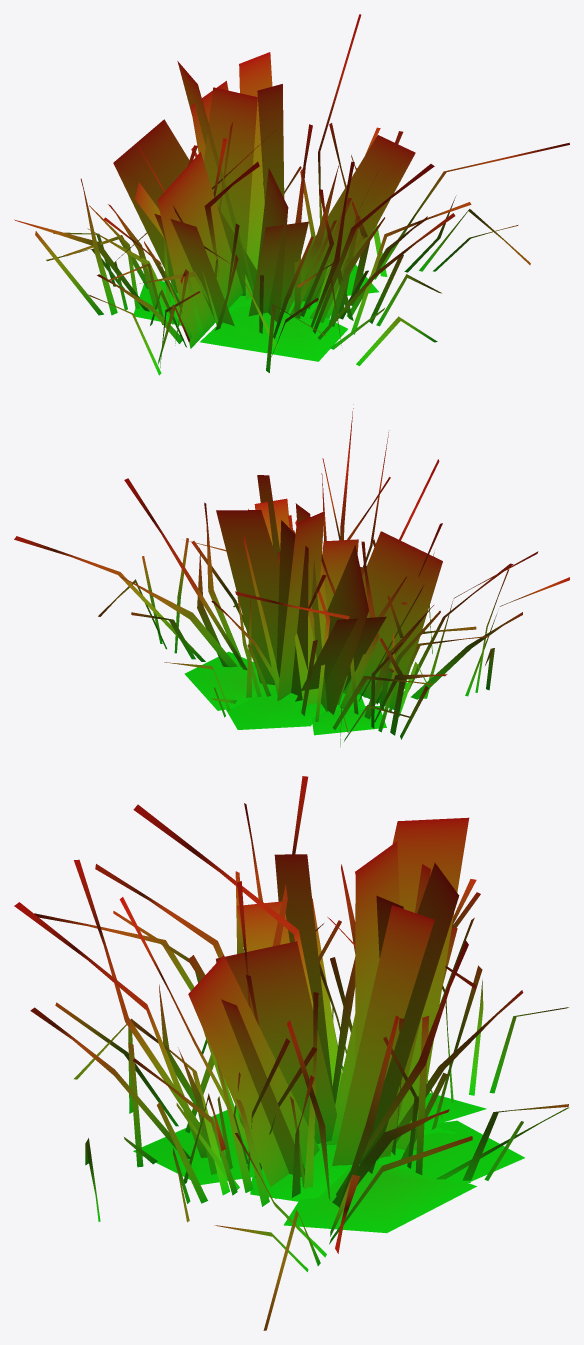
The model's file is Var15_LOD3.fbx.
The picture shows the model from 3 angles, top to bottom: view 1: azimuth 30°, elevation 25°; view 2: azimuth 150°, elevation 25°; view 3: azimuth 270°, elevation 25°; orthographic projection. The views are drawn at different scales.
Visible parts, largest first — view 1: _e04a_Var15_LOD3; view 2: _e04a_Var15_LOD3; view 3: _e04a_Var15_LOD3.
Boxes of the visible parts, x1,y1,x2,y2 form: _e04a_Var15_LOD3: (14,14,569,375); _e04a_Var15_LOD3: (14,404,569,746); _e04a_Var15_LOD3: (14,776,569,1330).
Size of the model in its own units: 16.33 by 7.25 by 10.8.
